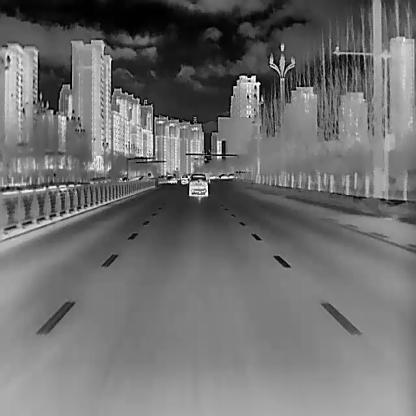car: (187, 171, 208, 196), (180, 174, 189, 184), (170, 174, 177, 184), (217, 172, 226, 179), (226, 172, 234, 179)
